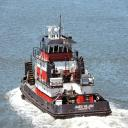tugboat: (20, 14, 114, 122)
